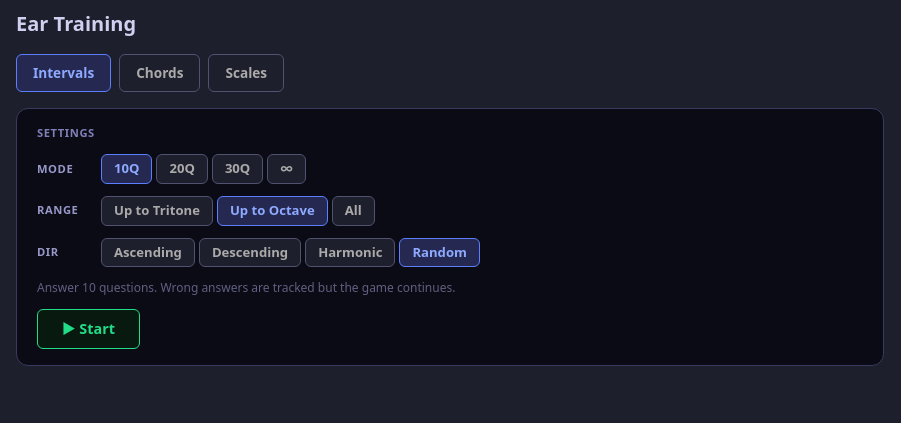
Test case: EarTrainingPage – rendering › switches to Scales tab
This screenshot has width=901, height=423.
Click the button "Scales": click(246, 73) 208,54 -> 284,92
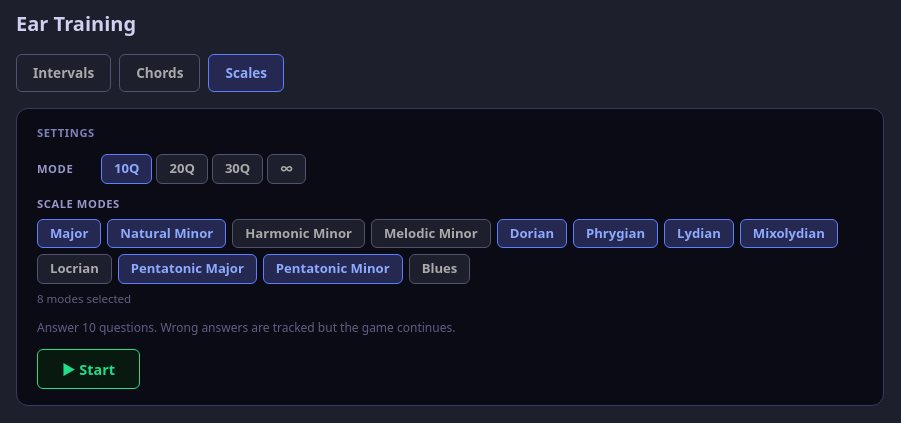
Check: the text "Scale Modes" is shown, box 37,196 -> 120,211
